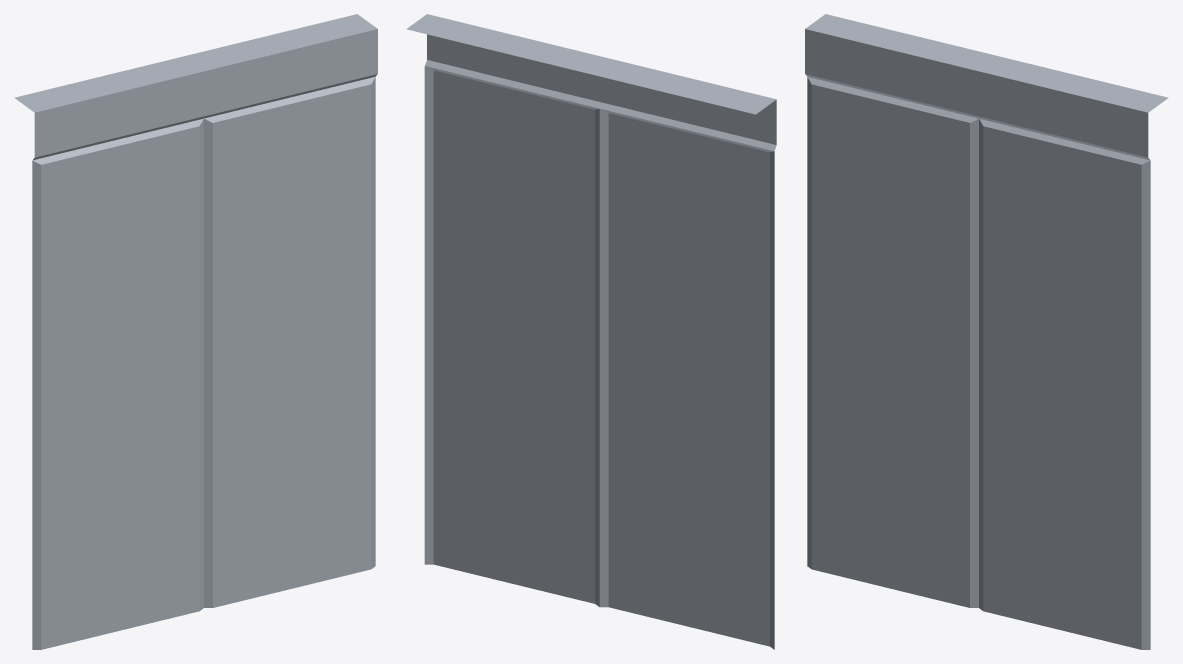
The model's file is Freezer_Wall.fbx.
3 views of the same model, side by side, from view 1: azimuth 30°, elevation 25°; view 2: azimuth 150°, elevation 25°; view 3: azimuth 330°, elevation 25° (orthographic).
Visible parts, largest first — view 1: WallFreezer; view 2: WallFreezer; view 3: WallFreezer.
Part boxes in pixels (bbox=[...]): WallFreezer: bbox=[14, 14, 377, 649]; WallFreezer: bbox=[406, 14, 776, 649]; WallFreezer: bbox=[805, 14, 1168, 649].
Size of the model in its own units: 200 by 300 by 20.67.
